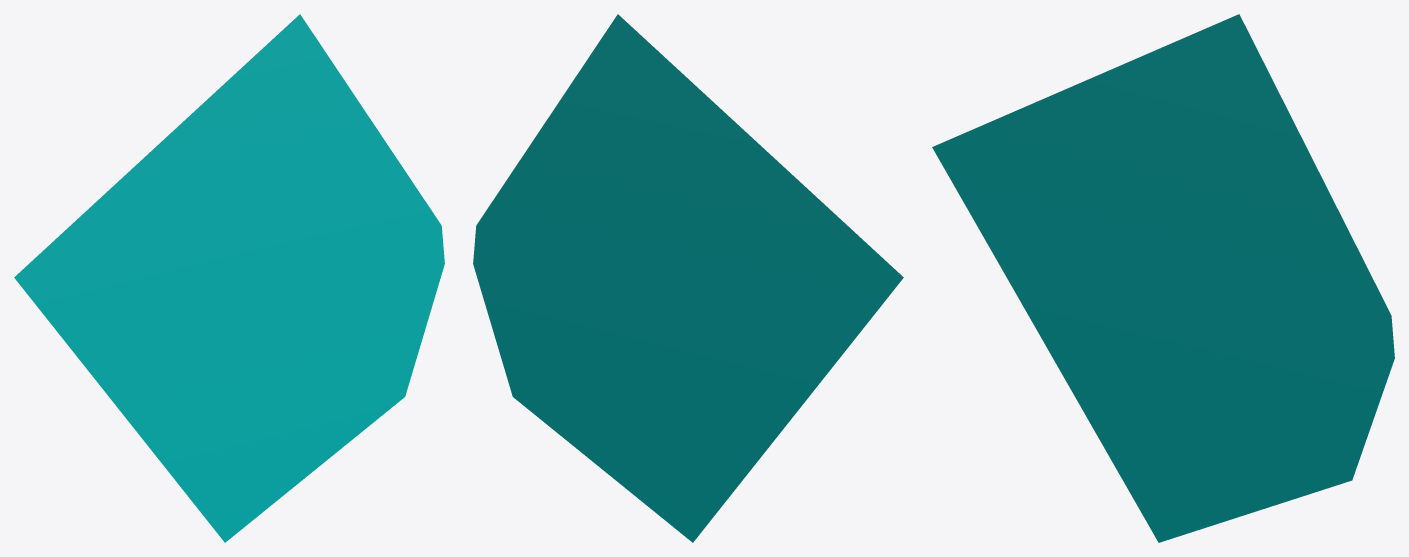
The model's file is Boxwood_wfypfa3ha_Low_wfypfa3ha_VarB_LOD3.fbx.
3 renders of one model, left to right at view 1: azimuth 30°, elevation 25°; view 2: azimuth 150°, elevation 25°; view 3: azimuth 330°, elevation 25°, orthographic. The views are drawn at different scales.
Parts seen in each view (by area): view 1: _18mk_VarB_LOD5; view 2: _18mk_VarB_LOD5; view 3: _18mk_VarB_LOD5.
Part boxes in pixels (x1,y1,x2,y2): _18mk_VarB_LOD5: (14,14,444,542); _18mk_VarB_LOD5: (473,14,903,542); _18mk_VarB_LOD5: (932,14,1394,542).
Bounding box in the file's own units: 15.63 × 17.7 × 0.
